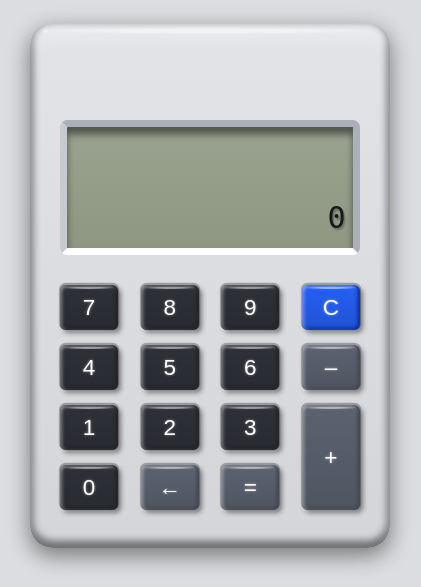
Calculator Page › Calculator Functionality › Number Buttons › should append the number to the expression
Click the button "1".
click(89, 428)  # box [60,405,118,450]
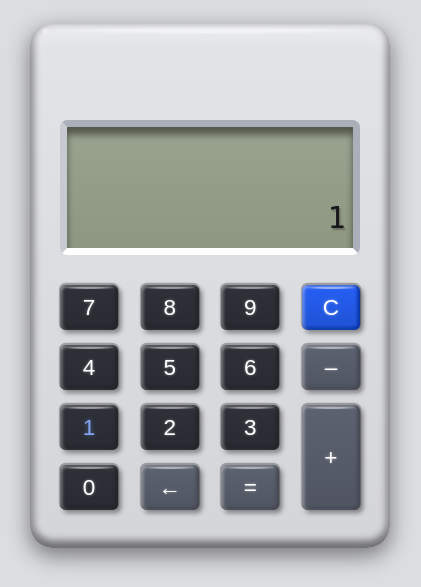
Click the button "+".
click(331, 458)  # box [302,405,360,510]
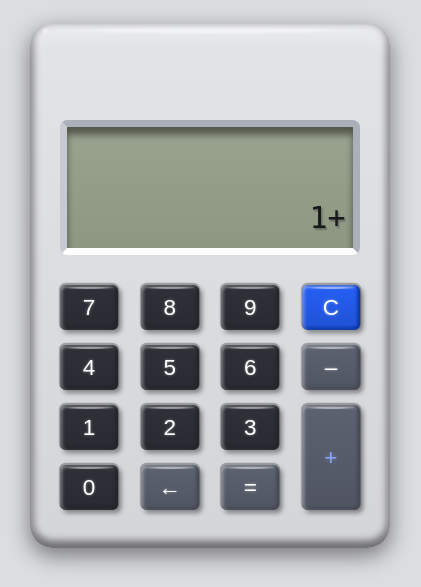
Click the button "5".
click(170, 368)  # box [141,345,199,390]
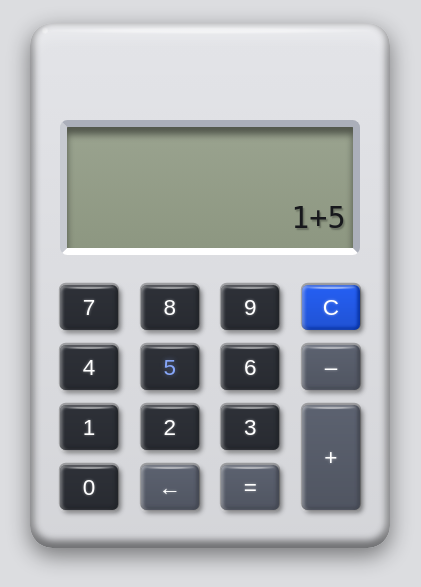
Result: the element with class "calc__screen-line--expression" reads "1+5" at [291,200,345,235]
Click the button "6".
click(250, 368)  # box [221,345,279,390]
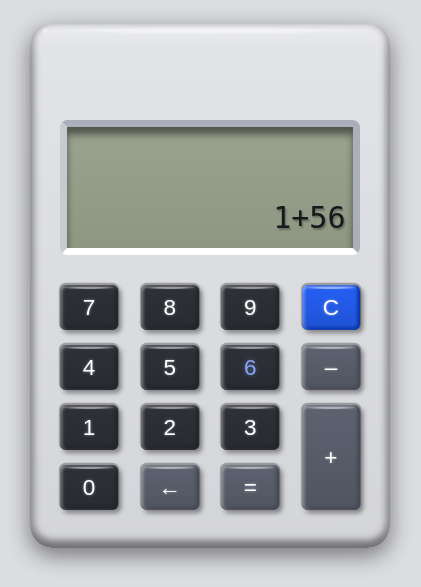
Result: the element with class "calc__screen-line--expression" reads "1+56" at [273,200,345,235]
